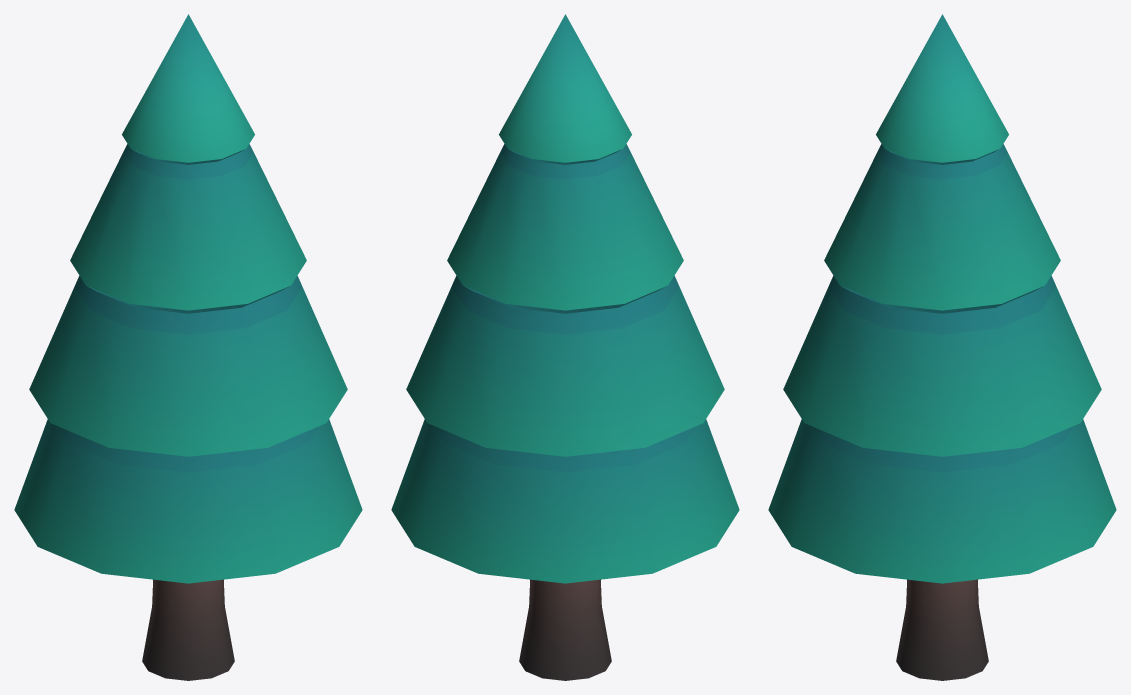
The model's file is Ёлка3.fbx.
3 views of the same model, side by side, from view 1: azimuth 30°, elevation 25°; view 2: azimuth 150°, elevation 25°; view 3: azimuth 270°, elevation 25° (orthographic).
Parts seen in each view (by area): view 1: Ёлка3; view 2: Ёлка3; view 3: Ёлка3.
Boxes of the visible parts, x1,y1,x2,y2 form: Ёлка3: [14, 14, 362, 680]; Ёлка3: [391, 14, 739, 680]; Ёлка3: [768, 14, 1116, 680].
Size of the model in its own units: 73.79 by 151 by 73.79.
